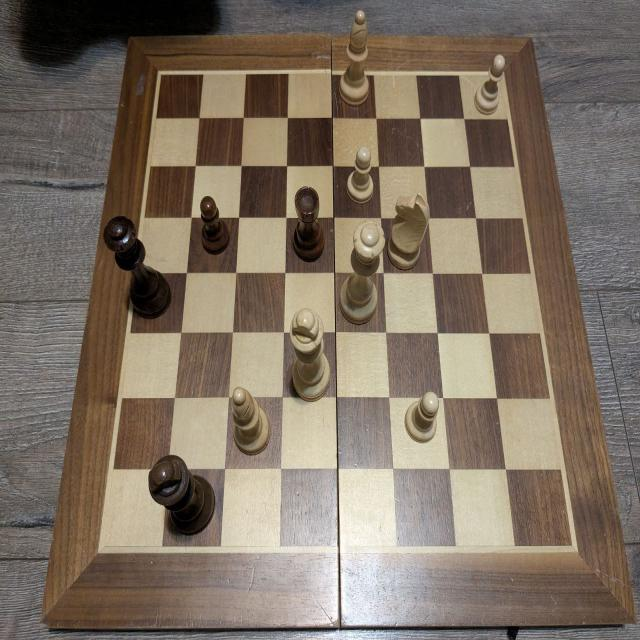black_king: (147, 455, 215, 534)
black_pawn: (199, 195, 231, 254)
black_queen: (104, 215, 174, 320)
black_rook: (292, 185, 323, 259)
white_bishop: (338, 10, 371, 106), (230, 384, 271, 454)
white_king: (289, 308, 331, 400)
white_knight: (388, 191, 431, 268)
white_pawn: (474, 53, 507, 114), (405, 391, 441, 444), (346, 144, 375, 203)
white_queen: (339, 222, 384, 321)
